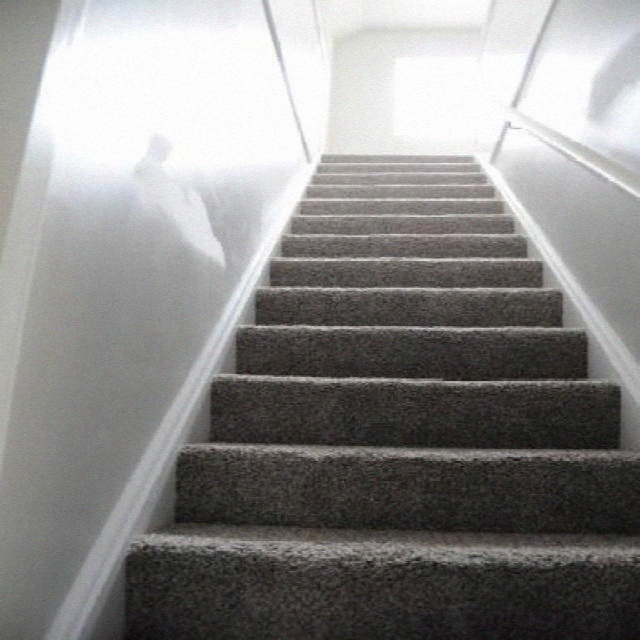stair: (126, 152, 640, 640)
